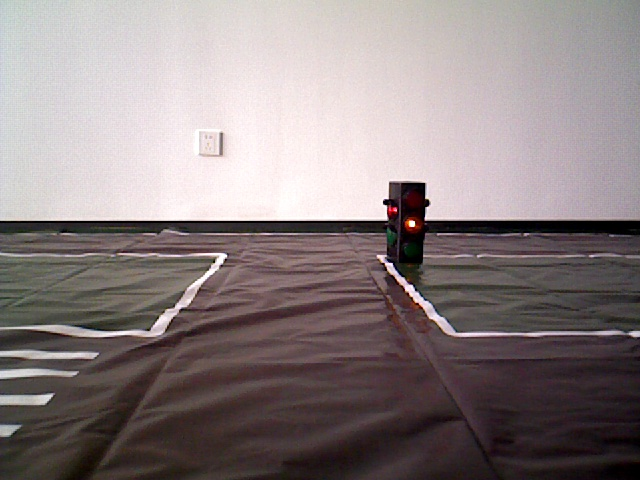yellow: (385, 178, 425, 257)
